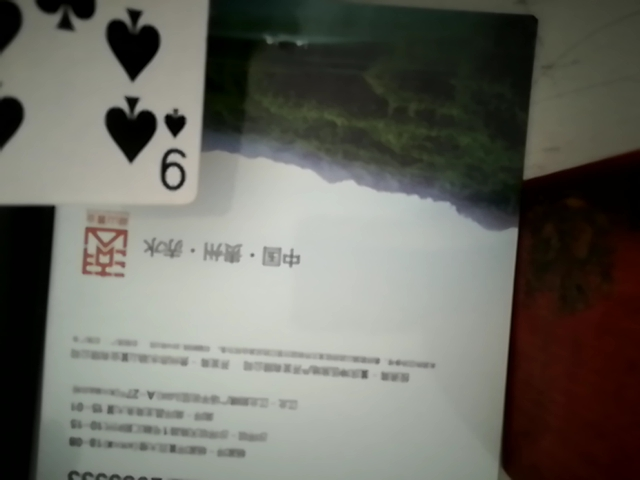ht 9: (0, 0, 214, 221)
